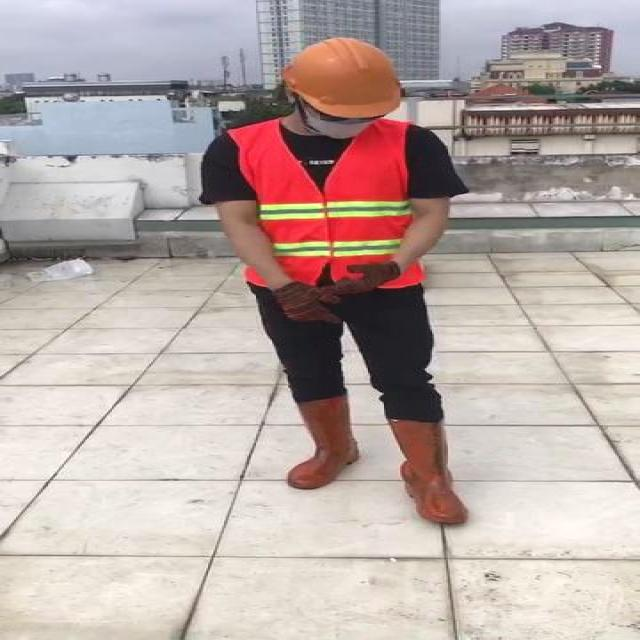boots: (388, 419, 471, 524), (284, 395, 361, 490)
hand_glove: (267, 280, 341, 325), (325, 262, 402, 295)
head_helmet: (276, 34, 406, 120)
person: (195, 31, 486, 528)
vest: (226, 118, 427, 290)
